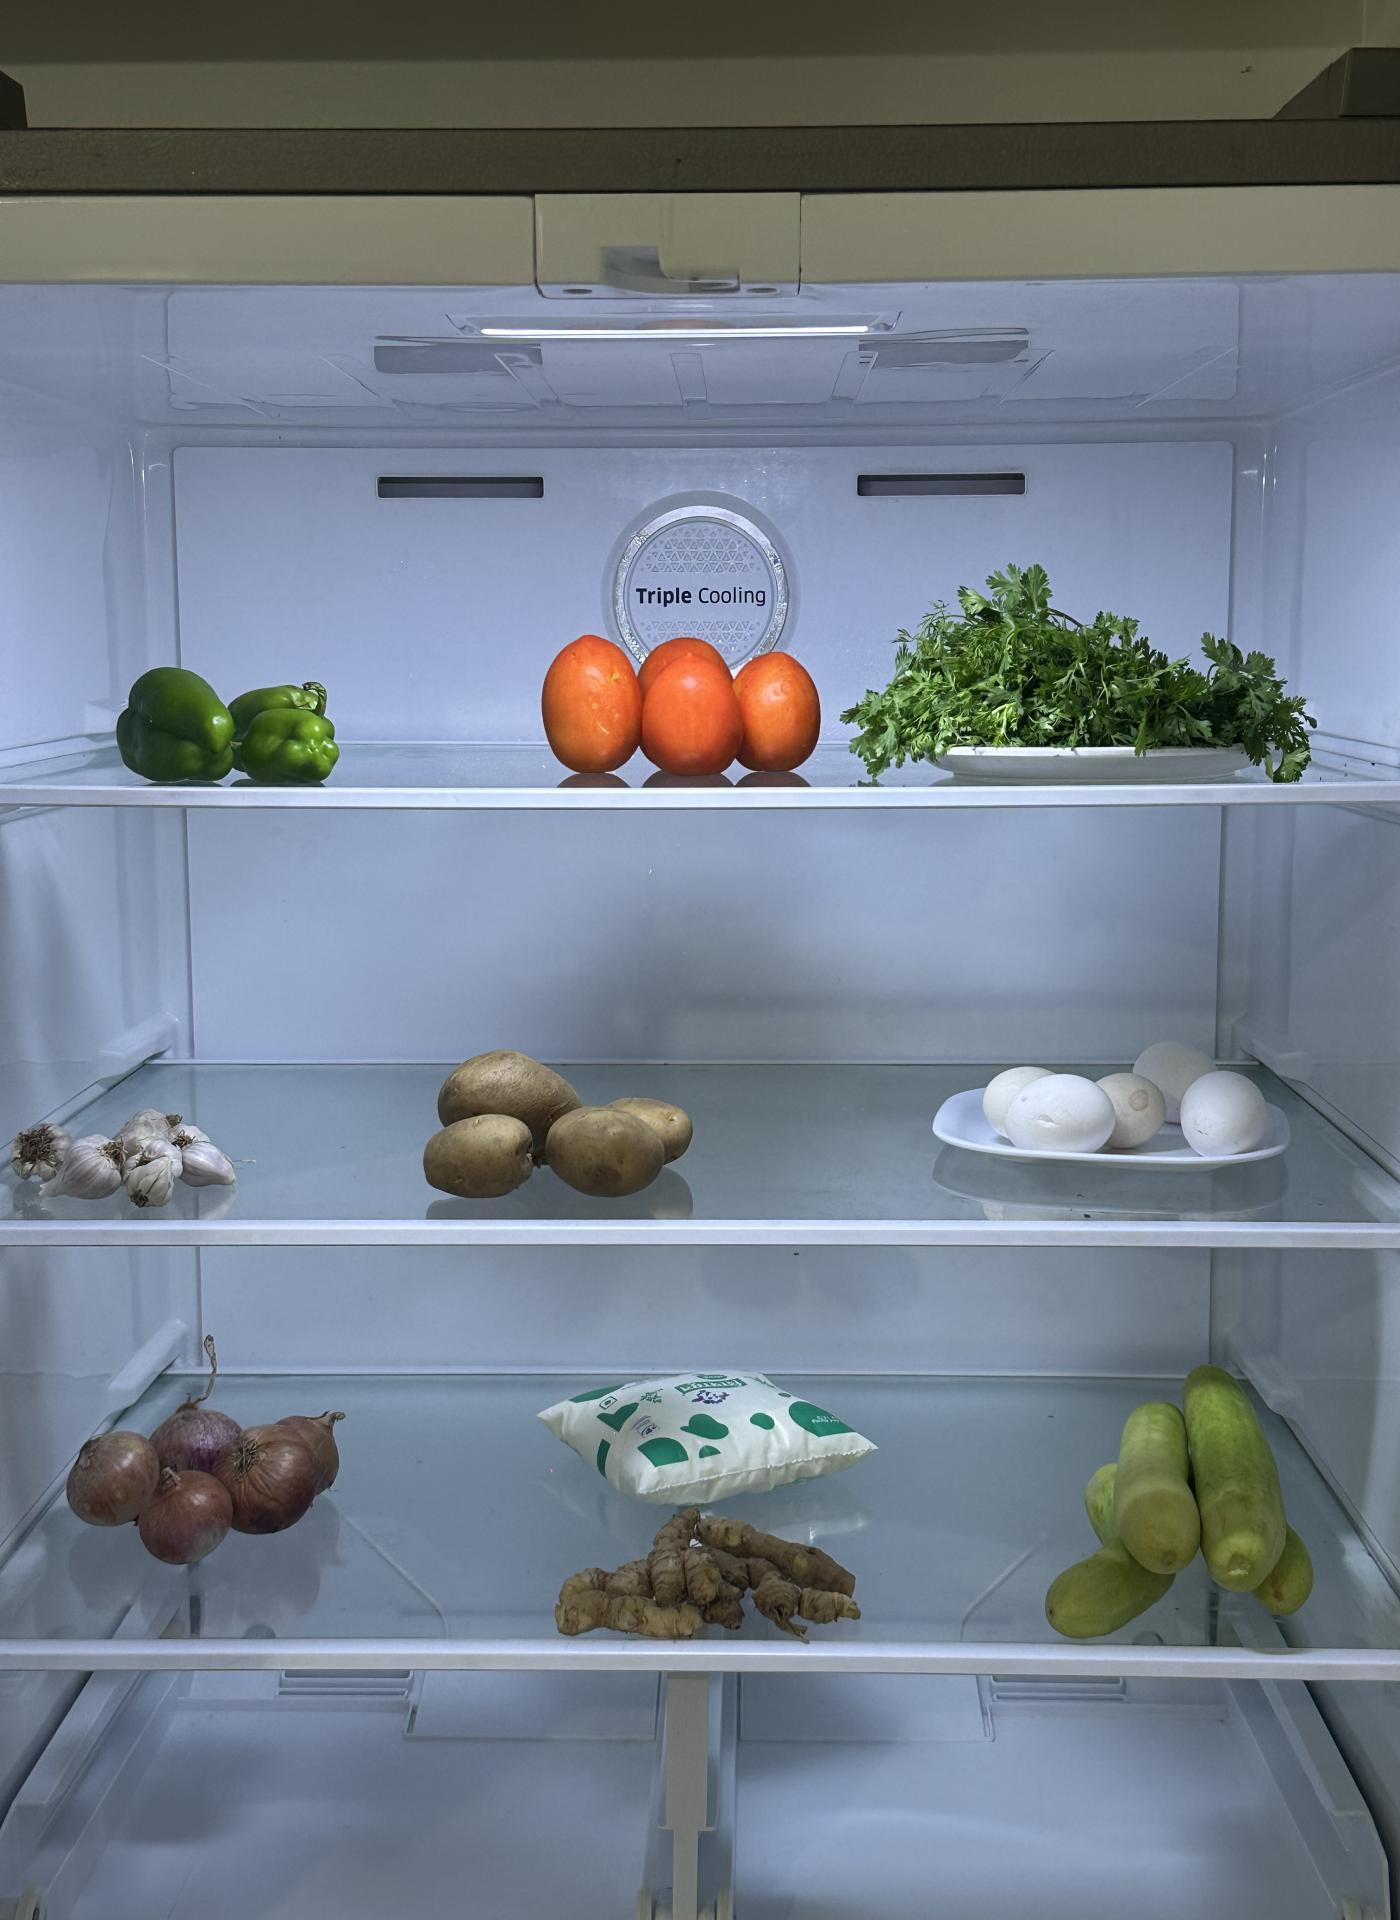capsicum: (103, 648, 347, 795)
coriander: (860, 544, 1299, 775)
cucumber: (1047, 1377, 1331, 1652)
egg: (936, 1026, 1281, 1196)
garlic: (15, 1087, 243, 1213)
ginger: (523, 1510, 895, 1664)
milk: (534, 1358, 866, 1512)
onion: (48, 1391, 353, 1568)
potato: (400, 1035, 717, 1206)
tomato: (525, 616, 836, 772)
